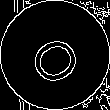O_NE: (22, 24, 88, 86)
